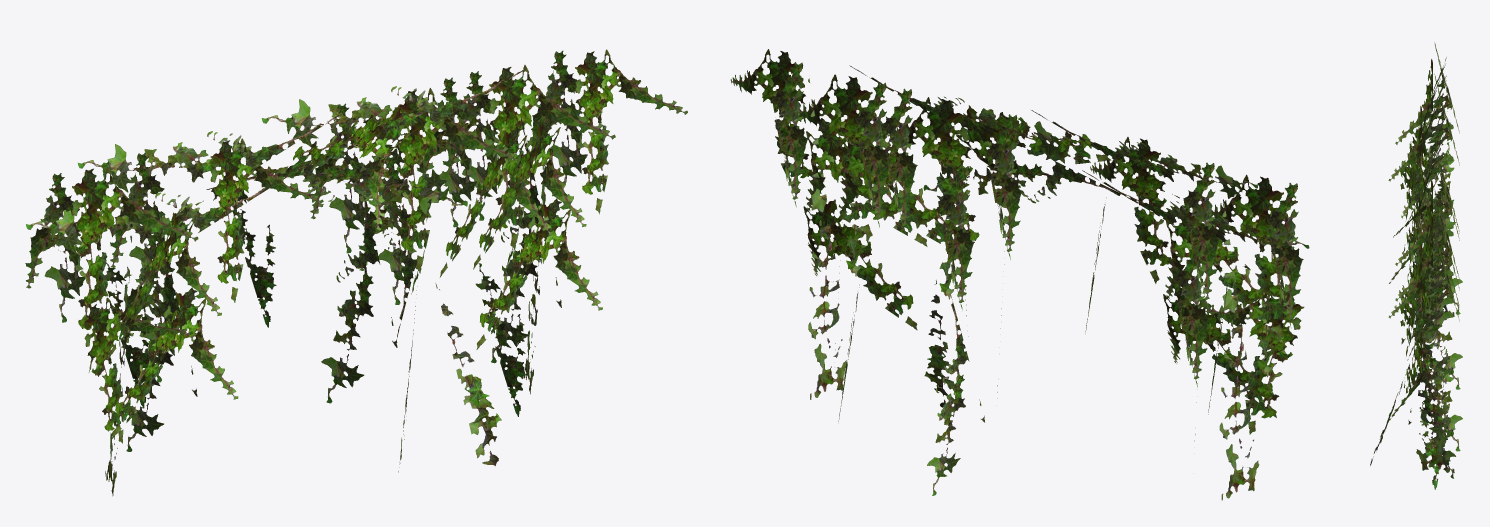
Rendered from ivy03_lod2.fbx.
The picture shows the model from 3 angles, left to right: view 1: azimuth 30°, elevation 25°; view 2: azimuth 150°, elevation 25°; view 3: azimuth 270°, elevation 25°; orthographic projection. The views are drawn at different scales.
Visible parts, largest first — view 1: Mesh Object; view 2: Mesh Object; view 3: Mesh Object.
Boxes of the visible parts, box(x1,y1,x2,y2) form: Mesh Object: box(25, 49, 687, 496); Mesh Object: box(730, 49, 1309, 500); Mesh Object: box(1370, 42, 1462, 489).
Bounding box in the file's own units: 2.33 × 1.5 × 0.4453.
